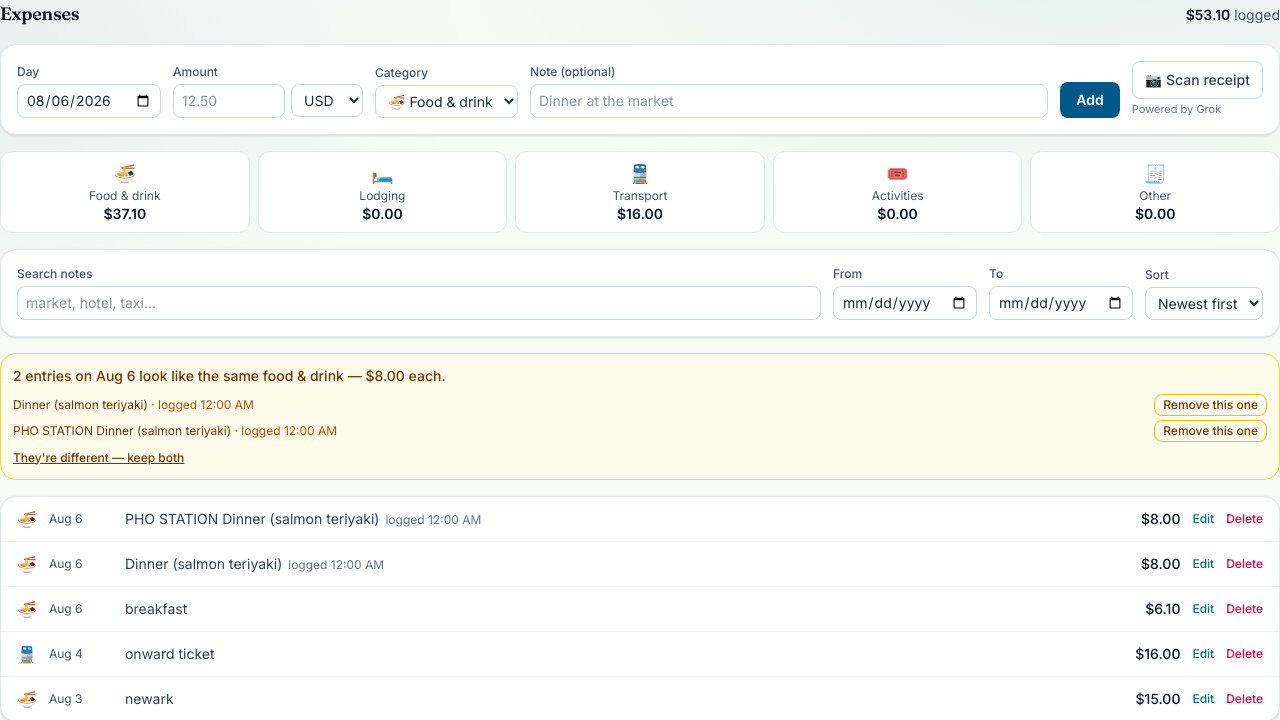
Test case: two real spends that happen to match › can be dismissed, and the dismissal is remembered
Click the button "They're different — keep both".
click(99, 458)  # box x1=13 y1=450 x2=184 y2=466
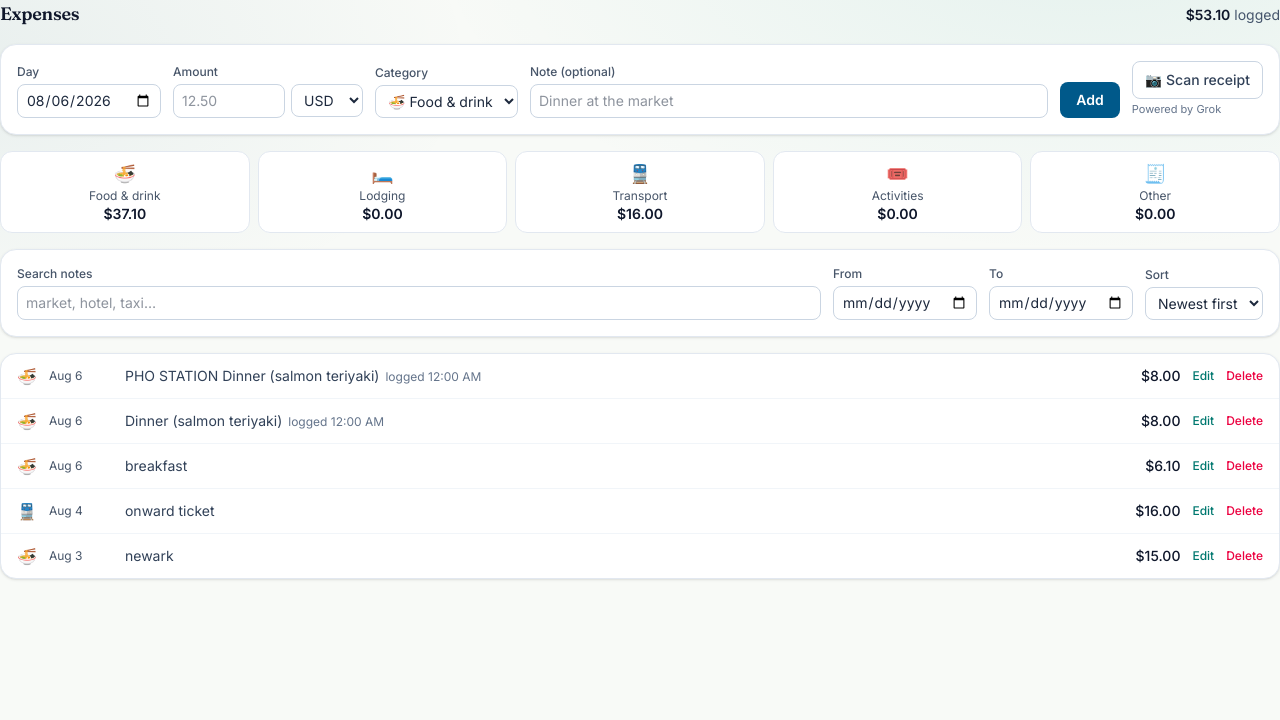
Now the text "look like the same" is gone
